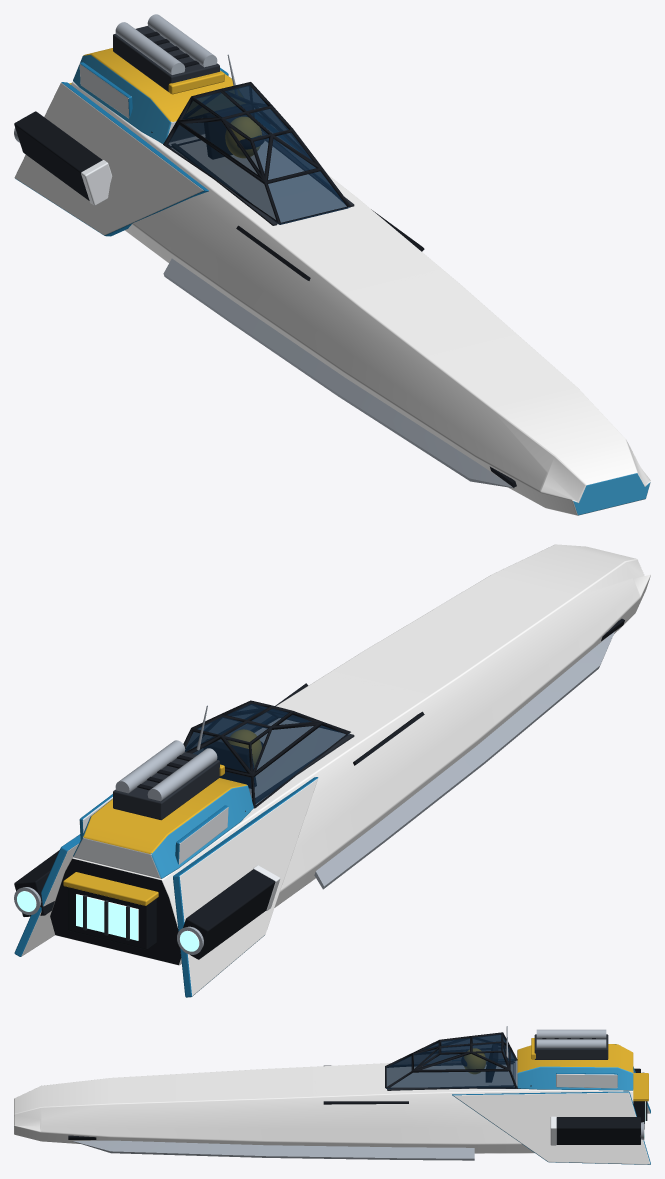
Rendered from feisar_fx350.glb.
3 views of the same model, one above another, from view 1: azimuth 30°, elevation 25°; view 2: azimuth 150°, elevation 25°; view 3: azimuth 270°, elevation 25° (orthographic). The views are drawn at different scales.
Visible parts, largest first — view 1: hull, panel_L, canopy_glass, skirt_L, canopy_frame, cowl, pod_L, intake, airbrake_L, intake_tube_L, intake_tube_R, pod_cap_L (+2 smaller); view 2: hull, panel_L, cowl, skirt_L, canopy_glass, canopy_frame, pod_L, intake, panel_R, thruster_frame, thruster_core, thruster_hood (+5 smaller); view 3: hull, panel_R, skirt_R, canopy_glass, cowl, canopy_frame, pod_R, intake, airbrake_R, intake_tube_R, intake_tube_L, thruster_hood (+4 smaller).
Boxes of the visible parts, box(x1,y1,x2,y2) form: hull: box(71, 81, 650, 515); panel_L: box(14, 82, 208, 236); canopy_glass: box(167, 85, 349, 224); skirt_L: box(163, 258, 514, 488); canopy_frame: box(163, 82, 350, 224); cowl: box(73, 48, 233, 143); pod_L: box(14, 111, 102, 200); intake: box(113, 26, 219, 93); airbrake_L: box(79, 62, 132, 118); intake_tube_L: box(115, 22, 185, 74); intake_tube_R: box(147, 14, 217, 67); pod_cap_L: box(81, 160, 112, 205); hull: box(50, 544, 650, 965); panel_L: box(173, 777, 318, 997); cowl: box(73, 778, 253, 878); skirt_L: box(314, 631, 614, 889); canopy_glass: box(185, 703, 349, 808); canopy_frame: box(183, 700, 350, 808); pod_L: box(177, 869, 275, 959); intake: box(113, 752, 219, 820); panel_R: box(14, 834, 80, 956); thruster_frame: box(68, 887, 156, 949); thruster_core: box(76, 894, 138, 940); thruster_hood: box(63, 872, 158, 905); hull: box(14, 1063, 633, 1153); panel_R: box(452, 1091, 650, 1164); skirt_R: box(73, 1140, 474, 1160); canopy_glass: box(385, 1034, 516, 1088); cowl: box(517, 1044, 633, 1090); canopy_frame: box(385, 1032, 517, 1088); pod_R: box(556, 1117, 640, 1144); intake: box(534, 1034, 608, 1059); airbrake_R: box(556, 1073, 617, 1088); intake_tube_R: box(536, 1039, 606, 1048); intake_tube_L: box(536, 1029, 606, 1038); thruster_hood: box(633, 1073, 648, 1101).
Bounding box in the file's own units: 1.82 × 1.65 × 8.23.
